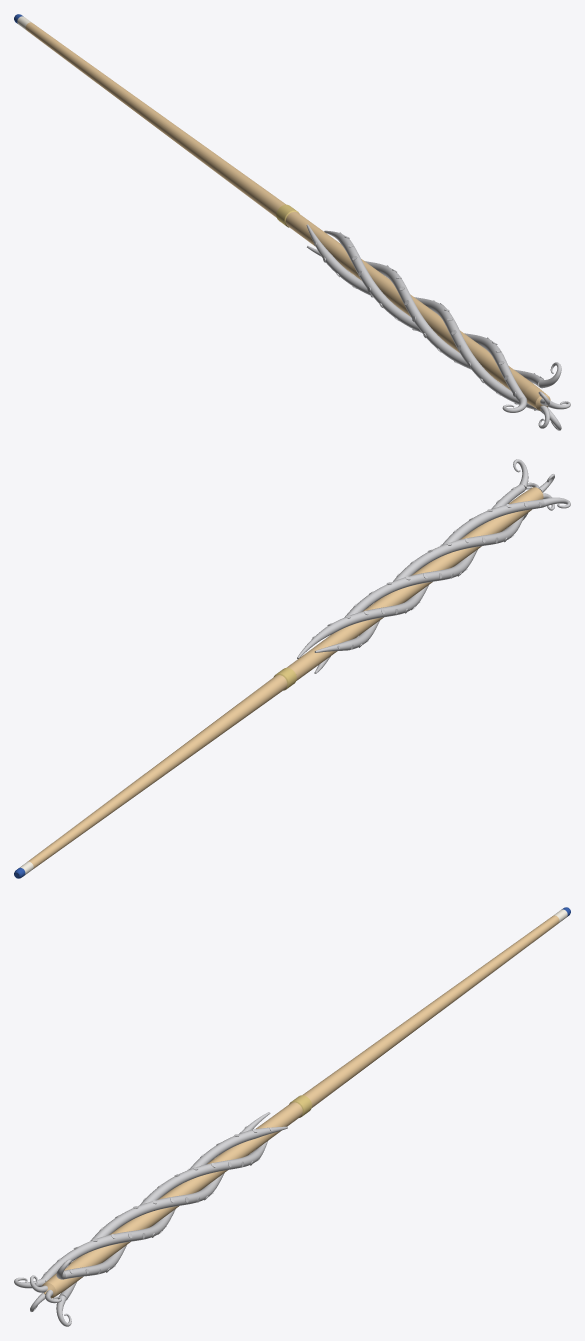
Rendered from cue_kraken.glb.
3 views of the same model, one above another, from view 1: azimuth 30°, elevation 25°; view 2: azimuth 150°, elevation 25°; view 3: azimuth 330°, elevation 25° (orthographic).
Visible parts, largest first — view 1: shaft, flesh, sucker; view 2: shaft, flesh; view 3: shaft, flesh.
Part boxes in pixels (x1,y1,x2,y2): shaft: (25, 22, 550, 410); flesh: (306, 224, 570, 430); sucker: (314, 232, 543, 410); shaft: (27, 487, 543, 869); flesh: (297, 459, 570, 673); shaft: (42, 915, 559, 1298); flesh: (14, 1112, 287, 1326).
Bounding box in the file's own units: 0.0882 × 0.0999 × 1.45.
